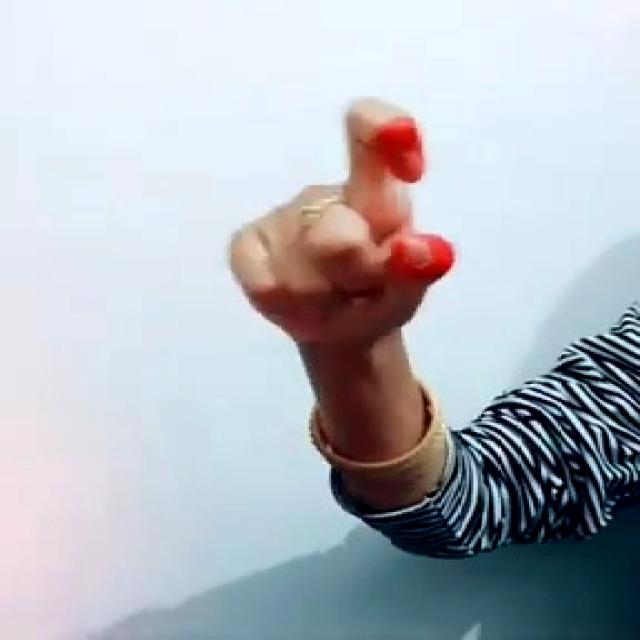Kapittha: (203, 88, 510, 356)
bangle: (298, 376, 468, 477)
